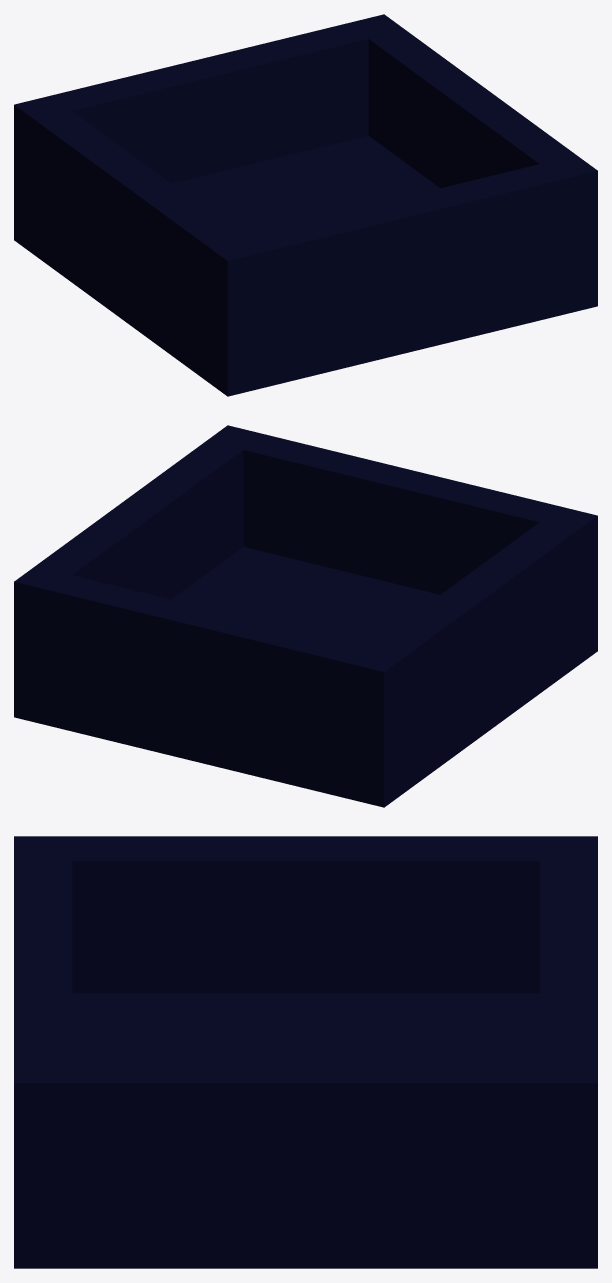
The model's file is NavyRoof_4Edges_Small.glb.
3 views of the same model, one above another, from view 1: azimuth 30°, elevation 25°; view 2: azimuth 150°, elevation 25°; view 3: azimuth 270°, elevation 25° (orthographic). The views are drawn at different scales.
Visible parts, largest first — view 1: roof_flat_4Edges_small_navy; view 2: roof_flat_4Edges_small_navy; view 3: roof_flat_4Edges_small_navy.
Part boxes in pixels (left/top/right/bottom): roof_flat_4Edges_small_navy: left=14, top=14, right=597, bottom=396; roof_flat_4Edges_small_navy: left=14, top=425, right=597, bottom=807; roof_flat_4Edges_small_navy: left=14, top=836, right=597, bottom=1268.
Size of what is drawn, in the model's own units: 2 by 0.7 by 2.
1 material, 1 textured.
